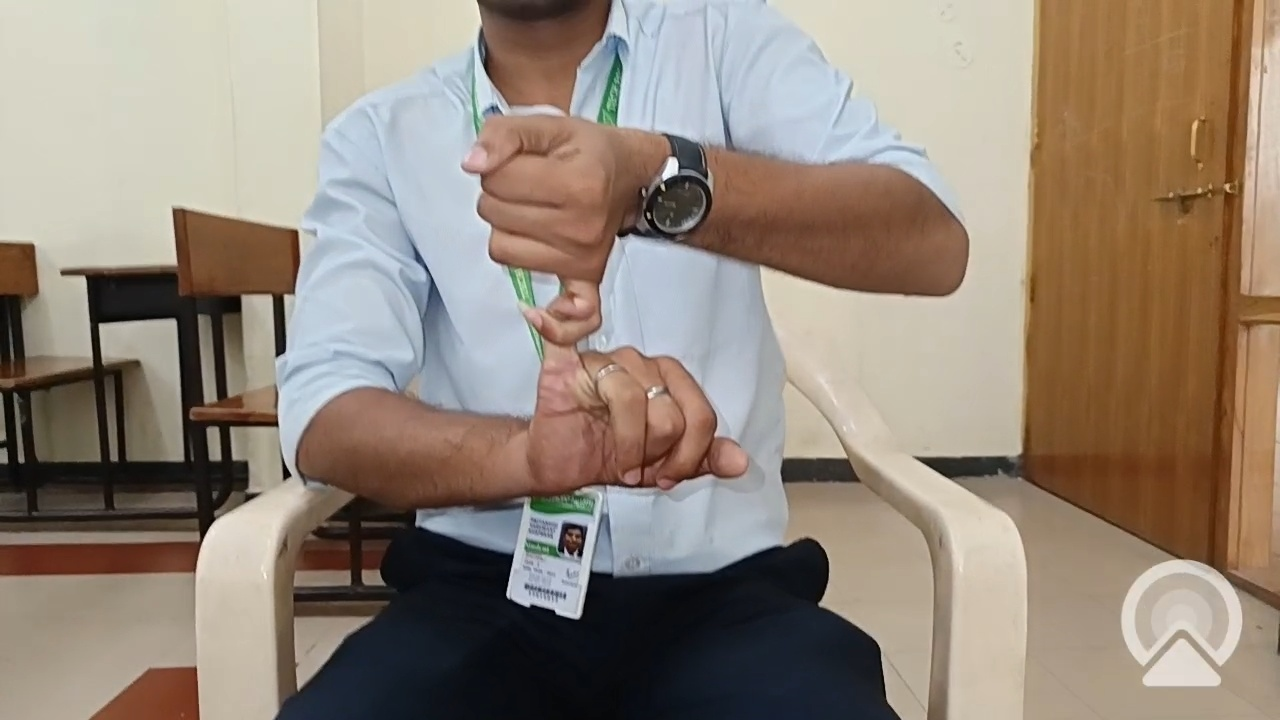S: (336, 86, 771, 552)
